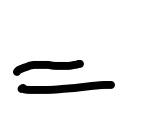eqv: (13, 60, 115, 94)
